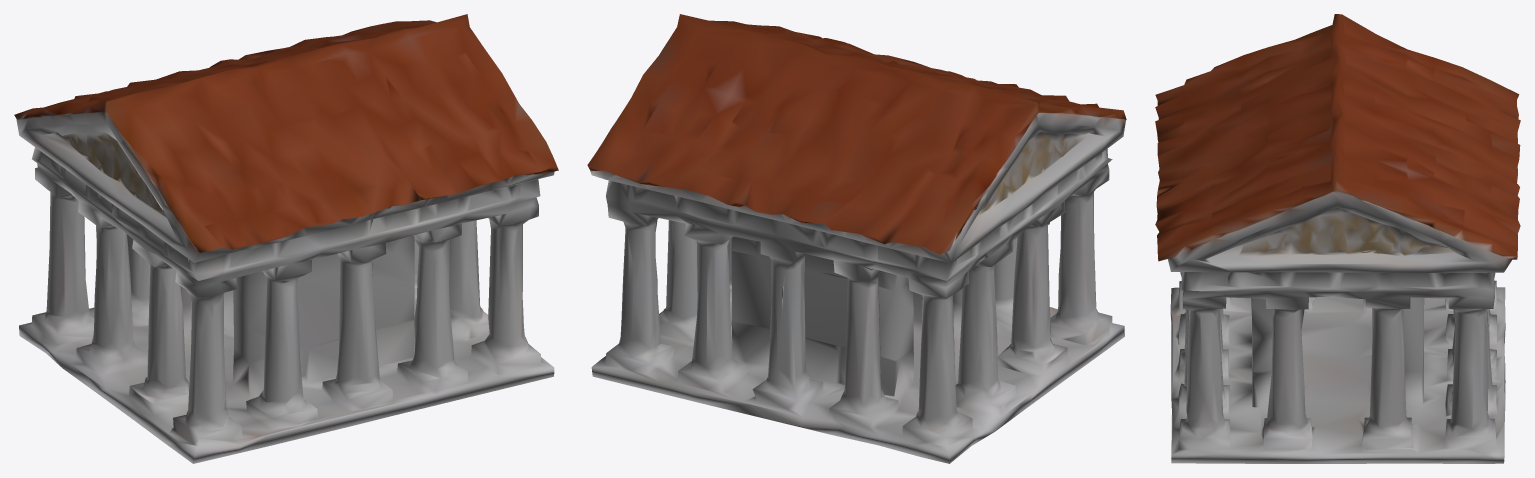
File: temple_lo.glb
3 renders of one model, left to right at view 1: azimuth 30°, elevation 25°; view 2: azimuth 150°, elevation 25°; view 3: azimuth 270°, elevation 25°, orthographic. The views are drawn at different scales.
Size of the model in its own units: 1.9 by 1.51 by 1.75.
